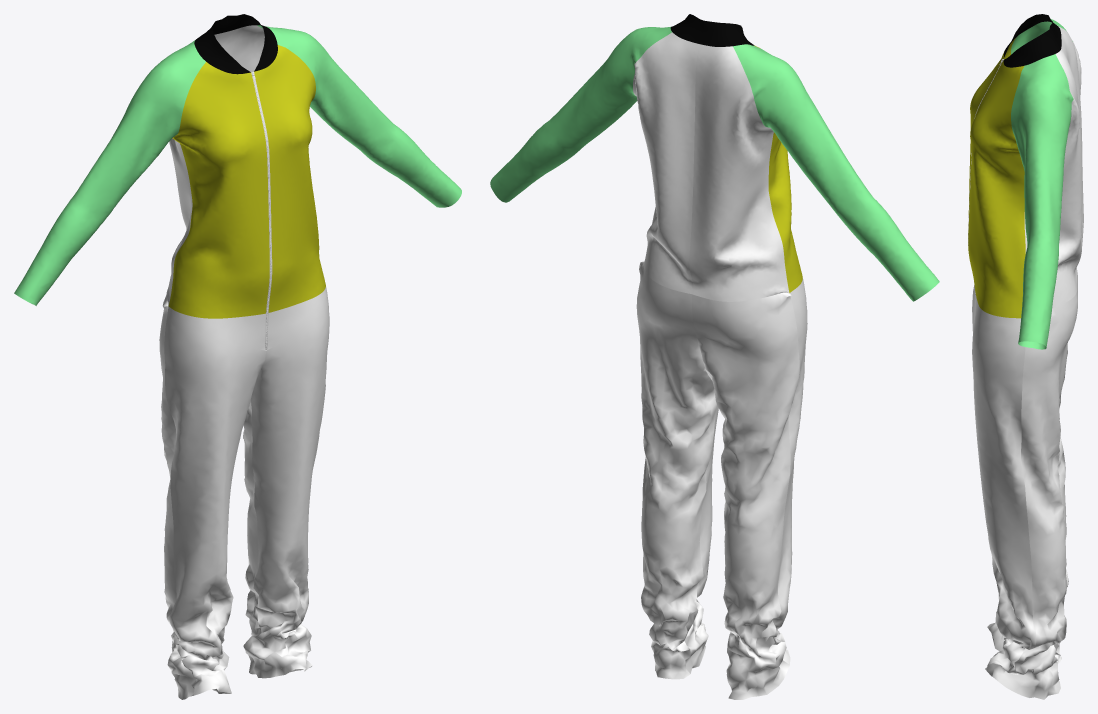
File: FemaleJumpSuit.glb
3 views of the same model, side by side, from view 1: azimuth 30°, elevation 25°; view 2: azimuth 150°, elevation 25°; view 3: azimuth 270°, elevation 25° (orthographic). The views are drawn at different scales.
Parts seen in each view (by area): view 1: Cloth; view 2: Cloth; view 3: Cloth.
Part boxes in pixels (x1,y1,x2,y2): Cloth: [14, 14, 461, 699]; Cloth: [490, 14, 939, 699]; Cloth: [968, 14, 1083, 699].
Bounding box in the file's own units: 1.06 × 1.52 × 0.2443.
Materials: 14 (8 with a texture image).
